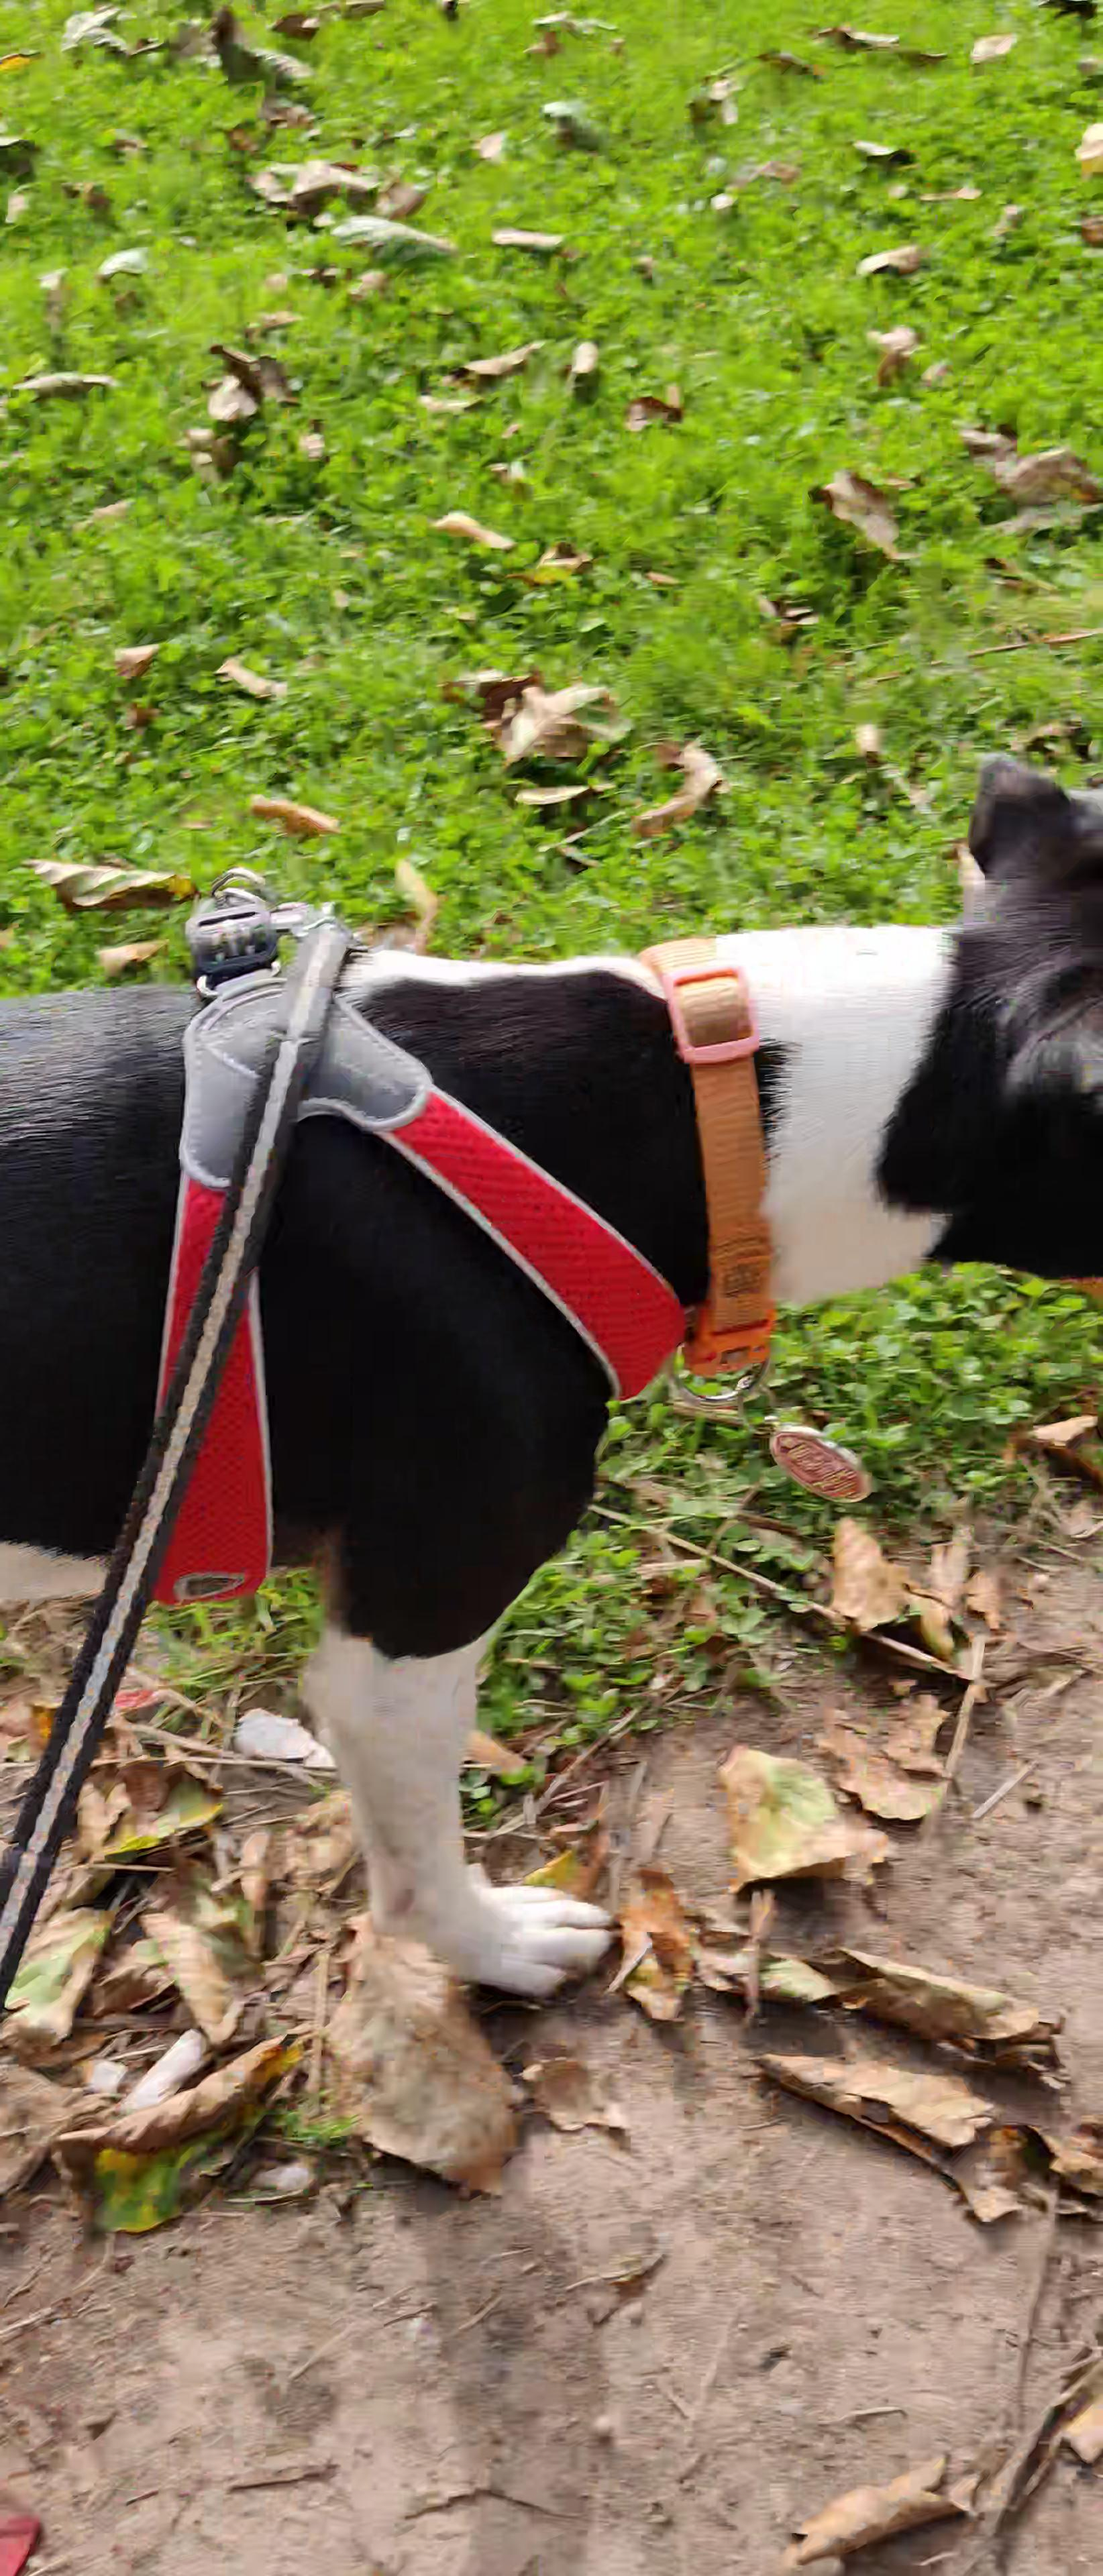Dog: (0, 711, 1103, 2029)
